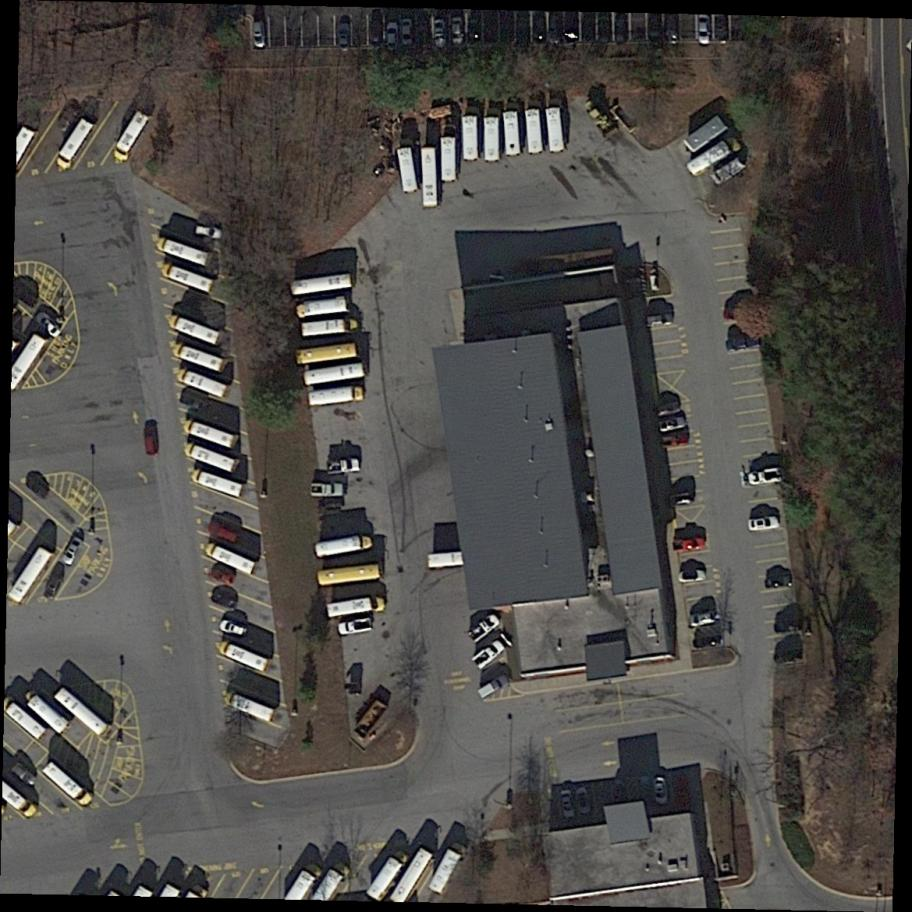large-vehicle: (52, 683, 118, 742), (105, 101, 158, 170), (4, 541, 58, 608), (360, 841, 415, 906), (39, 755, 99, 814), (18, 684, 76, 740), (424, 837, 474, 899), (51, 113, 98, 174), (685, 133, 743, 181), (677, 110, 733, 158), (180, 441, 243, 479), (183, 414, 243, 453), (215, 637, 275, 675), (202, 539, 260, 578), (165, 311, 224, 348), (154, 235, 214, 271), (173, 340, 231, 376), (158, 260, 218, 294), (175, 365, 232, 400), (189, 466, 246, 501), (300, 362, 366, 391), (224, 690, 278, 725), (324, 595, 389, 624), (293, 339, 357, 368), (316, 562, 381, 588), (313, 535, 375, 562), (296, 296, 352, 321), (291, 273, 354, 295), (305, 386, 365, 409), (419, 147, 441, 209), (396, 144, 421, 193), (301, 317, 361, 336), (501, 110, 523, 156), (524, 107, 545, 155), (482, 116, 503, 163), (545, 107, 566, 153), (461, 113, 479, 161), (441, 137, 458, 182), (426, 550, 464, 569)
small-vehicle: (463, 628, 518, 677), (462, 606, 507, 649), (17, 463, 60, 507), (708, 152, 750, 189), (214, 614, 254, 647), (472, 671, 512, 703), (5, 757, 40, 793), (31, 306, 64, 343), (206, 517, 246, 547), (58, 532, 89, 569), (669, 775, 697, 813), (41, 566, 70, 602), (722, 330, 762, 356), (208, 585, 241, 616), (205, 561, 238, 591), (743, 466, 784, 489), (188, 221, 227, 243), (651, 774, 675, 809), (333, 617, 377, 636), (513, 12, 532, 54), (694, 11, 715, 47), (555, 787, 577, 821), (648, 10, 665, 53), (563, 8, 582, 46), (612, 12, 631, 50), (744, 514, 782, 533), (547, 13, 565, 53), (592, 15, 613, 49), (712, 11, 734, 43), (364, 13, 383, 50), (654, 432, 692, 450), (428, 19, 449, 51), (142, 422, 160, 459), (628, 14, 647, 49), (580, 13, 597, 52), (335, 18, 355, 51), (500, 11, 515, 55), (483, 12, 499, 53), (573, 785, 594, 816), (533, 10, 550, 48), (656, 415, 690, 434), (637, 769, 654, 805), (607, 776, 628, 805), (773, 617, 804, 636), (449, 14, 466, 48), (467, 14, 484, 48), (654, 397, 684, 416), (687, 611, 720, 628), (672, 537, 706, 553), (772, 649, 804, 666), (764, 573, 794, 591), (664, 12, 679, 48), (595, 778, 614, 806), (402, 15, 417, 48), (678, 568, 708, 584), (692, 635, 726, 649), (644, 314, 675, 328), (386, 19, 400, 49), (251, 22, 266, 49), (668, 492, 693, 505)
